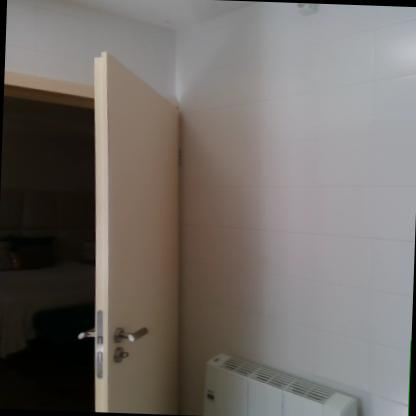semi: (0, 38, 183, 414)
